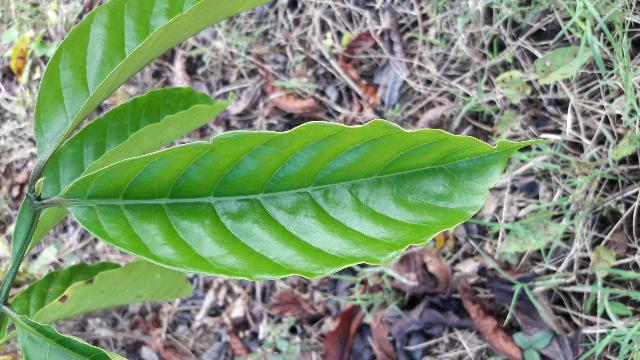healthy: (47, 122, 546, 281)
